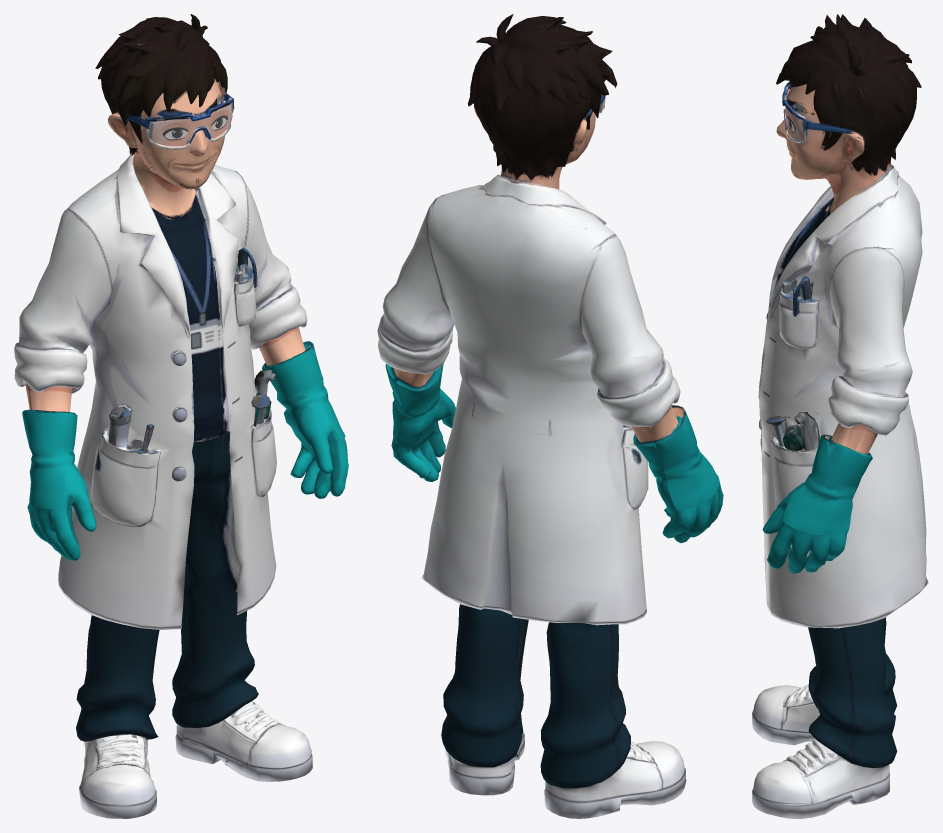
File: Dani quieto.glb
3 views of the same model, side by side, from view 1: azimuth 30°, elevation 25°; view 2: azimuth 150°, elevation 25°; view 3: azimuth 270°, elevation 25° (orthographic). The views are drawn at different scales.
Size of the model in its own units: 0.4067 by 0.9512 by 0.2051.
1 material, 1 textured.
